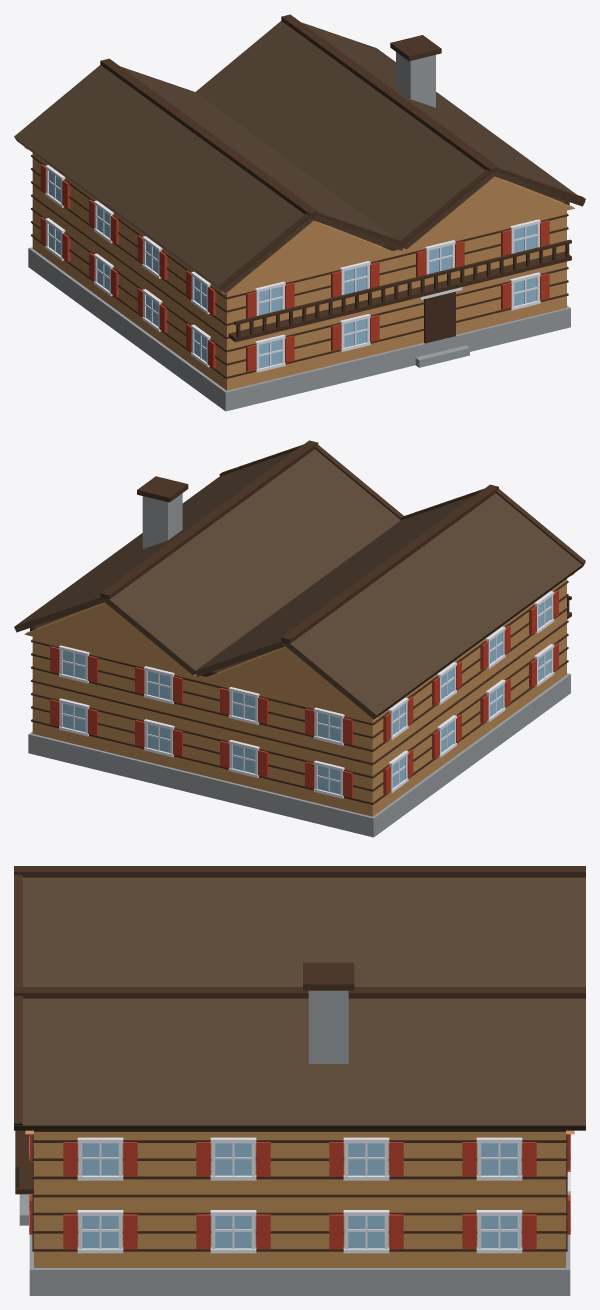
Rendered from house-2x2-2f-chalet-a.glb.
3 renders of one model, top to bottom at view 1: azimuth 30°, elevation 25°; view 2: azimuth 150°, elevation 25°; view 3: azimuth 270°, elevation 25°, orthographic. The views are drawn at different scales.
Parts seen in each view (by area): view 1: house-2x2-2f-chalet-a; view 2: house-2x2-2f-chalet-a; view 3: house-2x2-2f-chalet-a.
Boxes of the visible parts, box(x1,y1,x2,y2) form: house-2x2-2f-chalet-a: box(14, 14, 585, 411); house-2x2-2f-chalet-a: box(14, 440, 585, 837); house-2x2-2f-chalet-a: box(14, 866, 585, 1295).
Bounding box in the file's own units: 2.01 × 1.12 × 2.
1 material, 1 textured.
